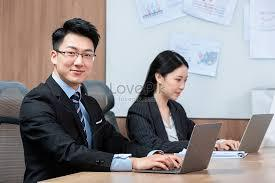Awake: (50, 14, 102, 91)
